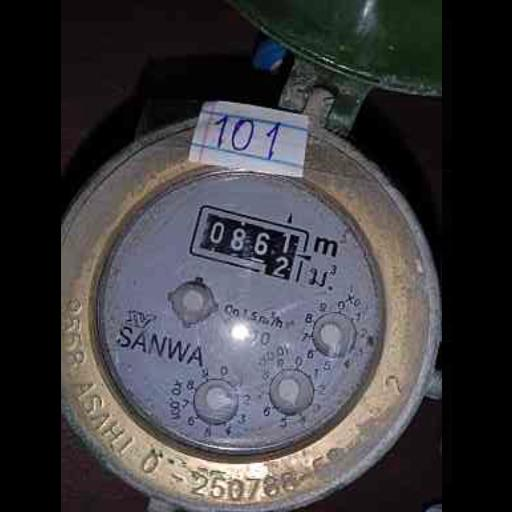0: (199, 213, 232, 254)
1: (264, 230, 300, 280)
6: (246, 225, 276, 266)
8: (222, 219, 256, 260)
border_water_meter_number: (186, 203, 310, 284)
